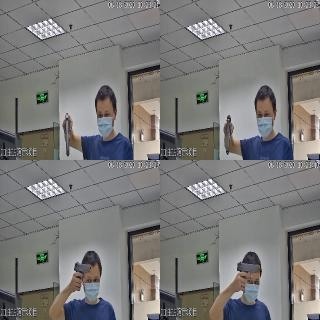gun: (236, 258, 260, 292), (73, 260, 91, 292), (222, 112, 234, 154), (61, 115, 71, 155)
